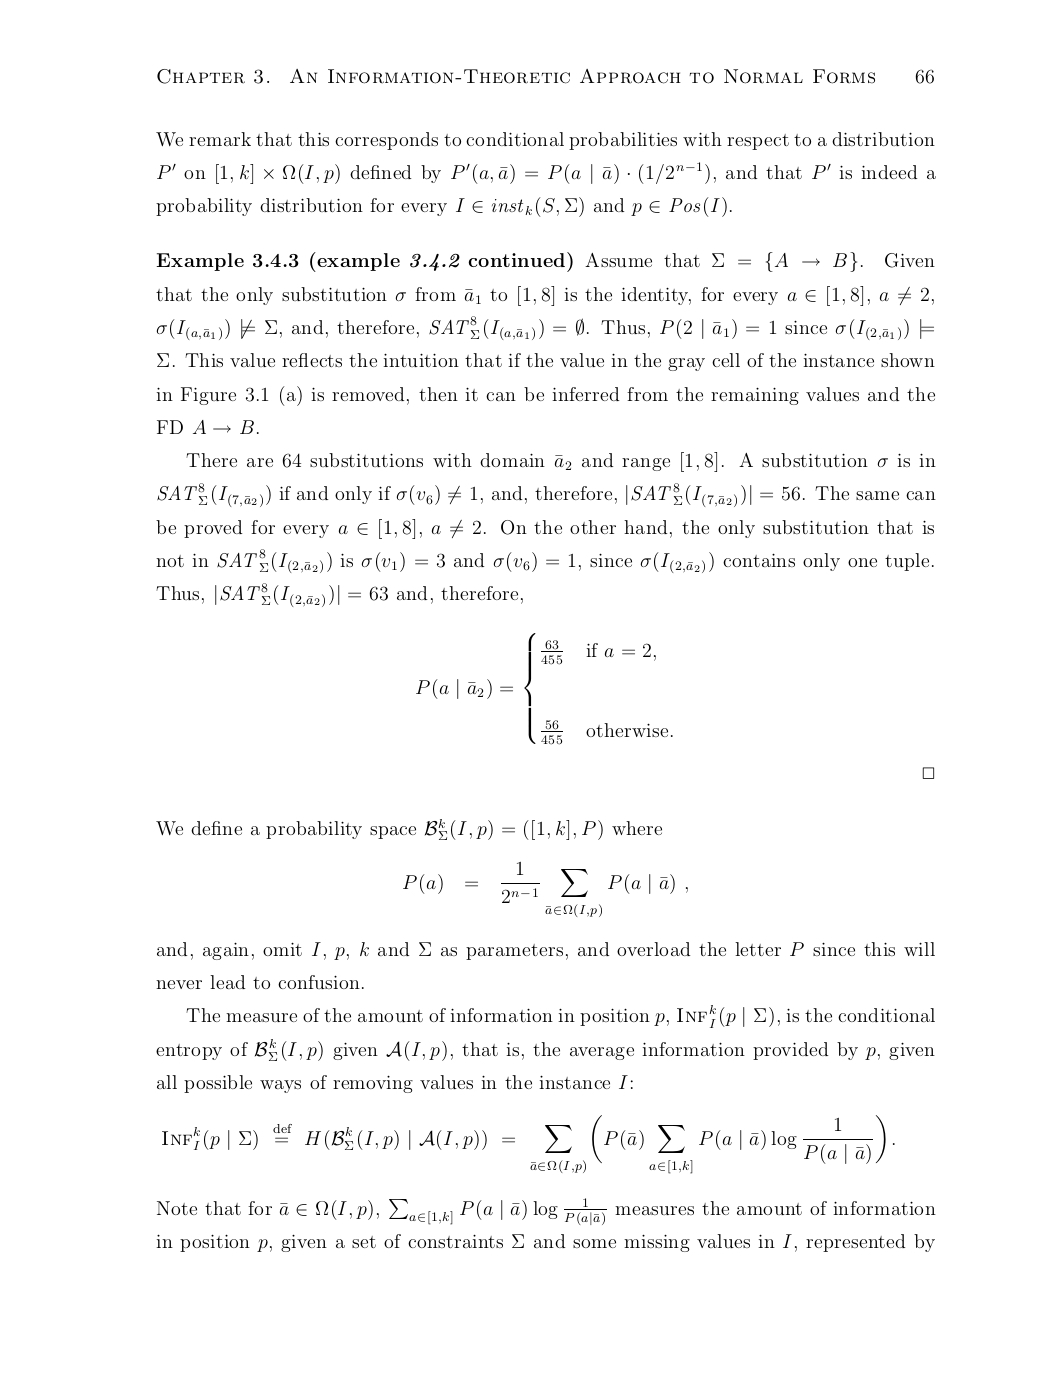formula: (162, 1114, 894, 1174), (416, 633, 672, 744), (403, 860, 687, 918)
